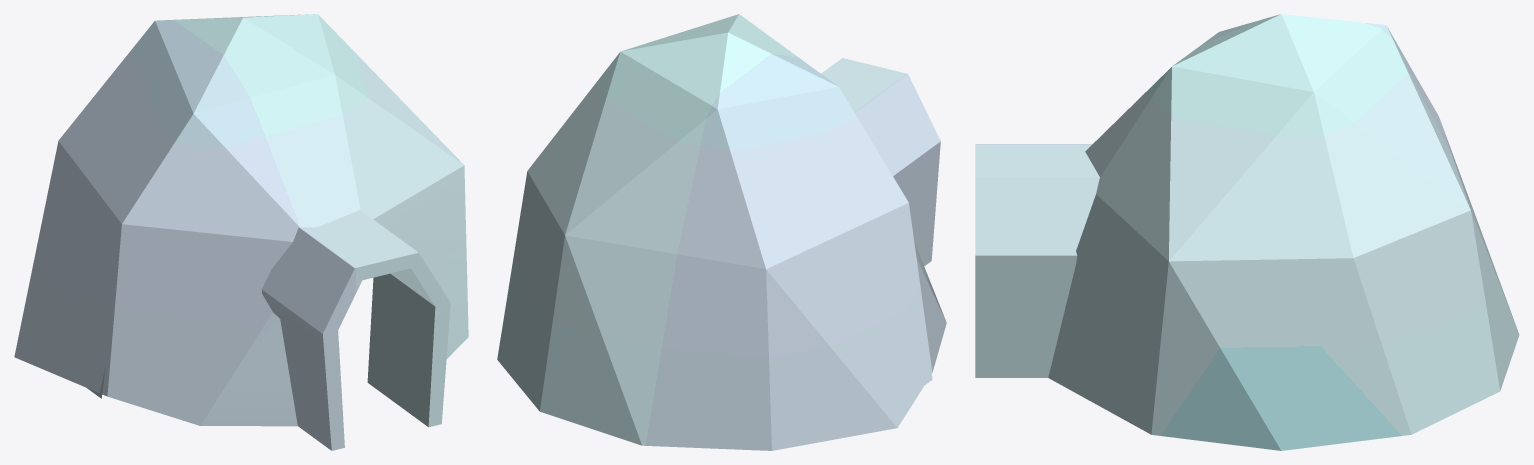
Rendered from SS_Igloo2.fbx.
The picture shows the model from 3 angles, left to right: view 1: azimuth 30°, elevation 25°; view 2: azimuth 150°, elevation 25°; view 3: azimuth 270°, elevation 25°; orthographic projection. The views are drawn at different scales.
Visible parts, largest first — view 1: Igloo2; view 2: Igloo2; view 3: Igloo2.
Boxes of the visible parts, bbox=[...] form: Igloo2: bbox=[14, 14, 468, 450]; Igloo2: bbox=[497, 14, 946, 450]; Igloo2: bbox=[975, 14, 1519, 450].
Bounding box in the file's own units: 4.97 × 3.85 × 5.6.
1 material, 1 textured.
